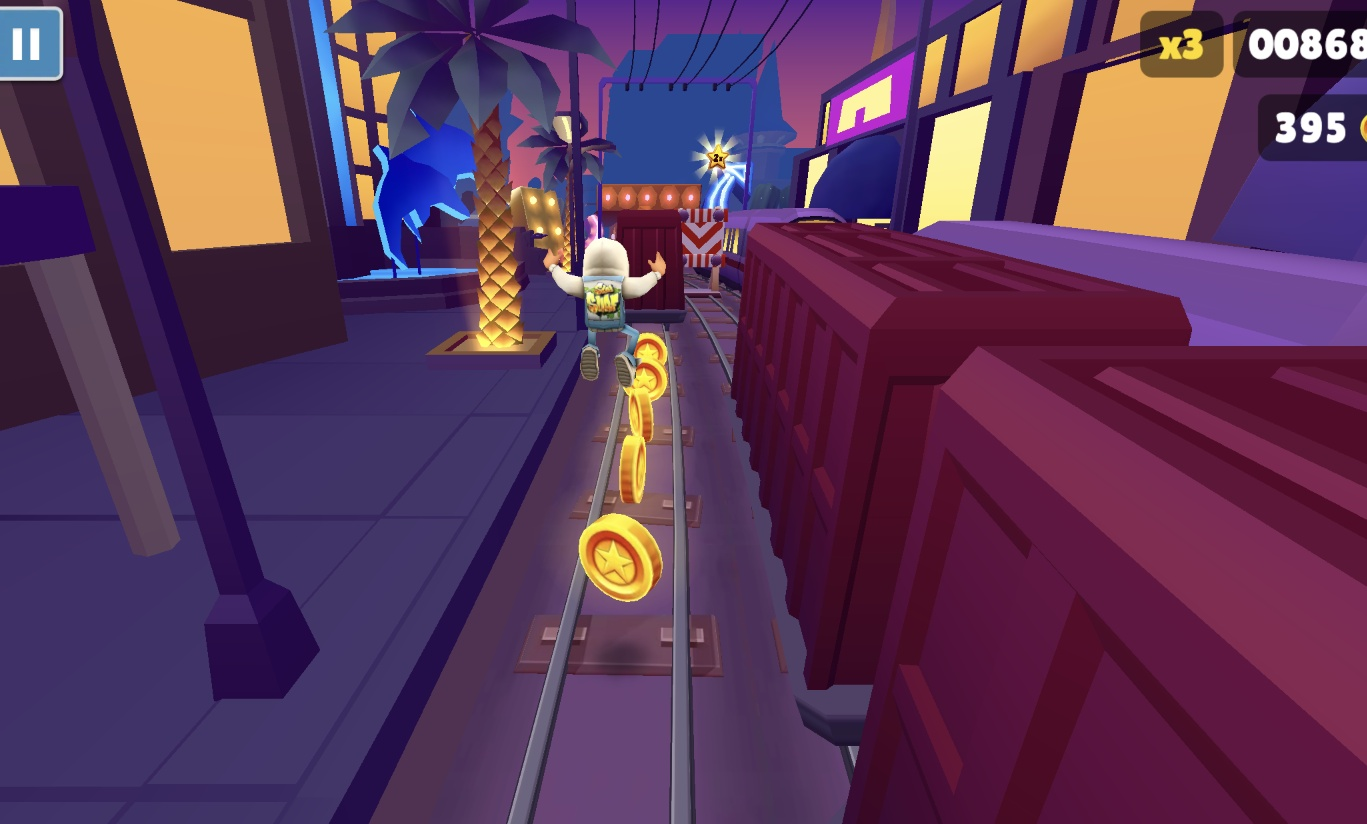overhead_barrier: (679, 207, 729, 301)
train: (730, 218, 1367, 824), (722, 207, 1367, 279), (610, 210, 689, 328)
